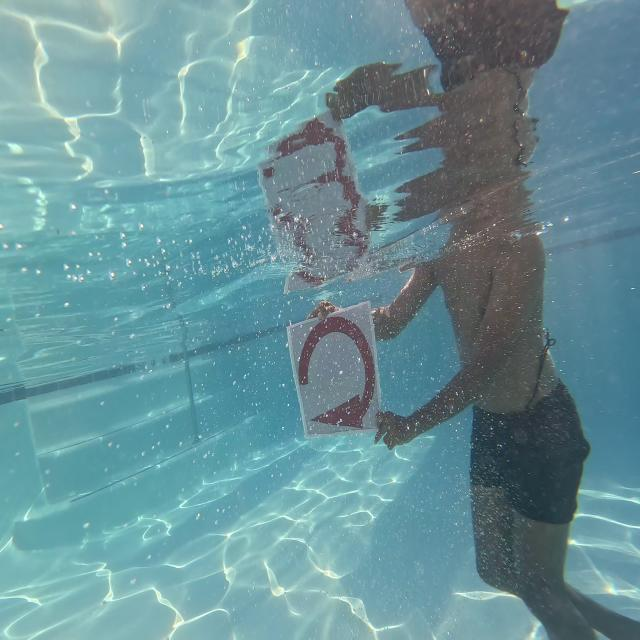red_side: (294, 308, 378, 441)
